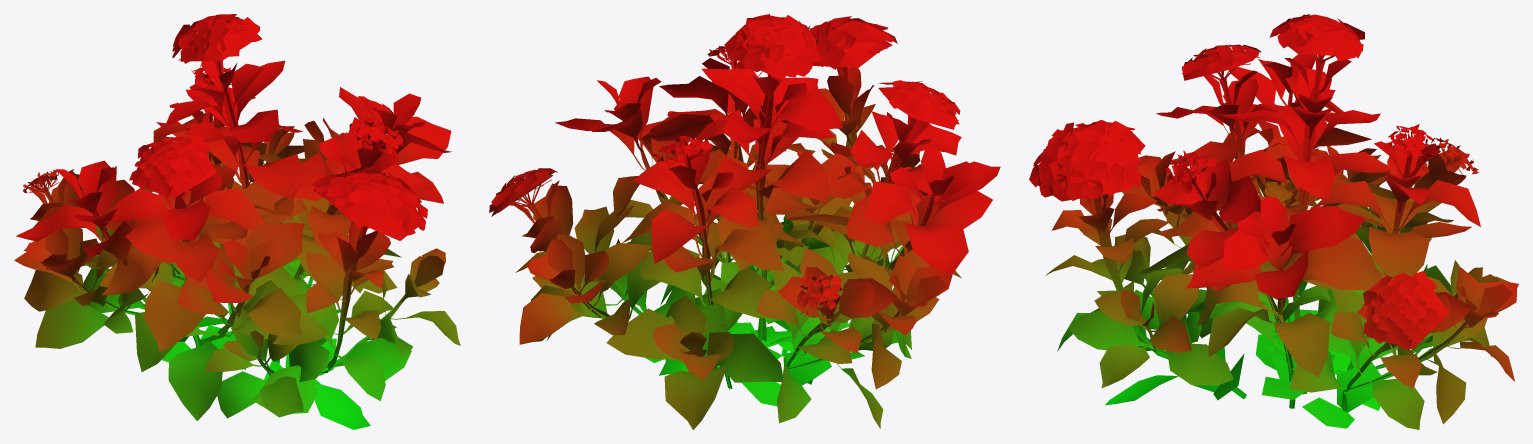
Rendered from Var4_LOD3.fbx.
The picture shows the model from 3 angles, left to right: view 1: azimuth 30°, elevation 25°; view 2: azimuth 150°, elevation 25°; view 3: azimuth 270°, elevation 25°; orthographic projection. The views are drawn at different scales.
Parts seen in each view (by area): view 1: _fb64_Var4_LOD3; view 2: _fb64_Var4_LOD3; view 3: _fb64_Var4_LOD3.
Part boxes in pixels (<box>): _fb64_Var4_LOD3: <box>14,14,460,429</box>; _fb64_Var4_LOD3: <box>489,14,1000,429</box>; _fb64_Var4_LOD3: <box>1029,14,1518,429</box>.
Bounding box in the file's own units: 128 × 104 × 125.
